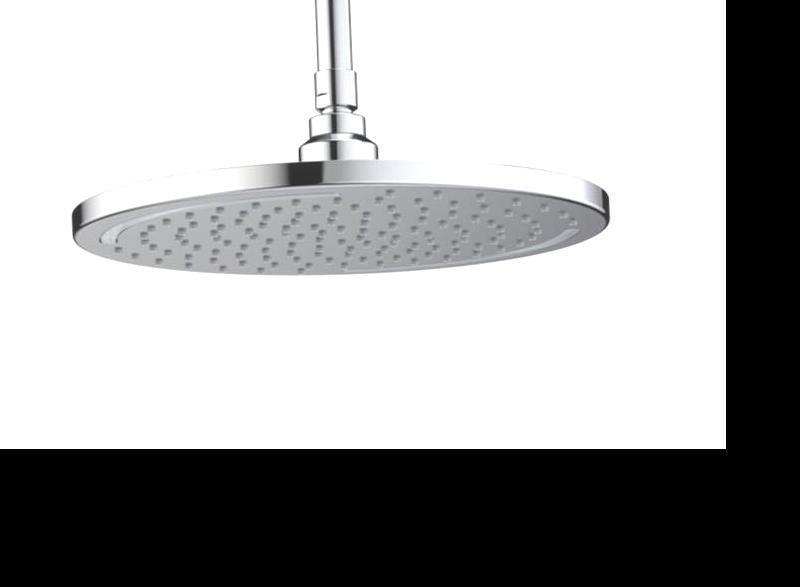Ducha: (75, 0, 609, 306)
